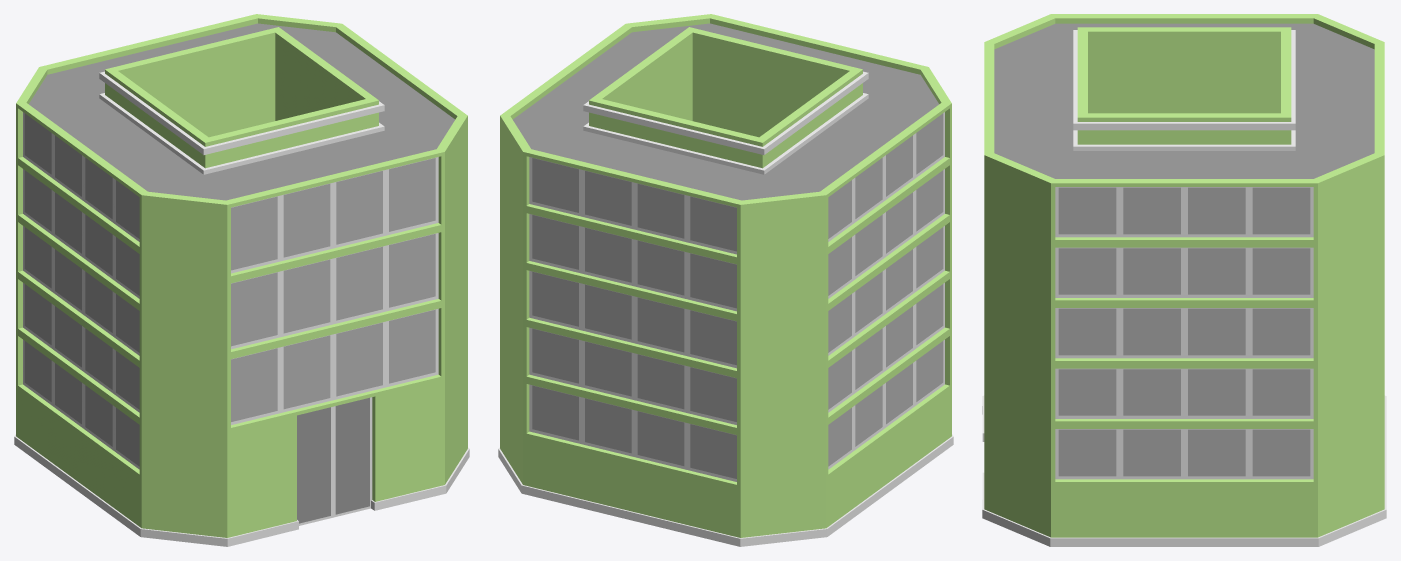
Rendered from SM_House_17_02.FBX.
3 views of the same model, side by side, from view 1: azimuth 30°, elevation 25°; view 2: azimuth 150°, elevation 25°; view 3: azimuth 270°, elevation 25° (orthographic). The views are drawn at different scales.
Visible parts, largest first — view 1: SM_House_17_02; view 2: SM_House_17_02; view 3: SM_House_17_02.
Boxes of the visible parts, x1,y1,x2,y2 form: SM_House_17_02: (14,14,469,546); SM_House_17_02: (498,14,953,546); SM_House_17_02: (982,14,1386,546).
Bounding box in the file's own units: 6.06 × 6.43 × 6.06.
1 material, 1 textured.
